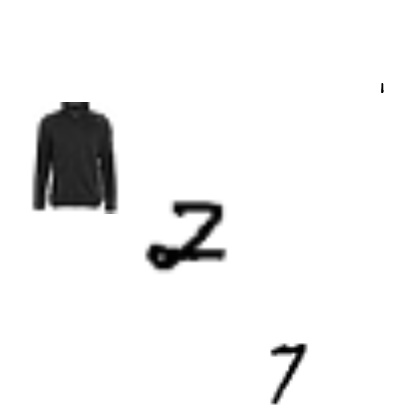2: (3, 237, 45, 279)
6: (194, 24, 278, 108)
Ankle_boot: (115, 7, 157, 49)
Sandal: (32, 36, 74, 78)
Sneaker: (202, 181, 244, 223)
Trouser: (11, 156, 67, 212), (182, 292, 210, 320), (261, 142, 283, 164), (324, 292, 346, 314)
